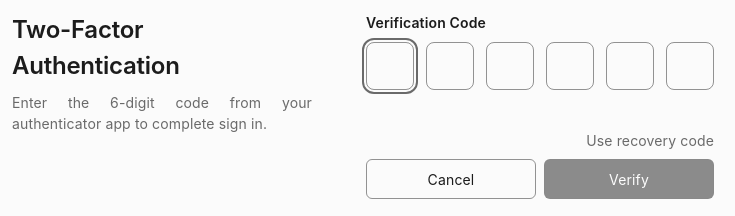
Scenario: MfaTotpStepV2 › switches back from recovery to TOTP via "Use authenticator app"
Click the button "Use recovery code" at (650, 140), box 586,130 -> 714,151
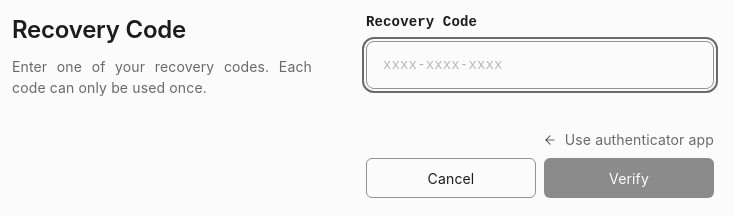
Click the button "Use authenticator app" at (628, 140), box 543,129 -> 714,150
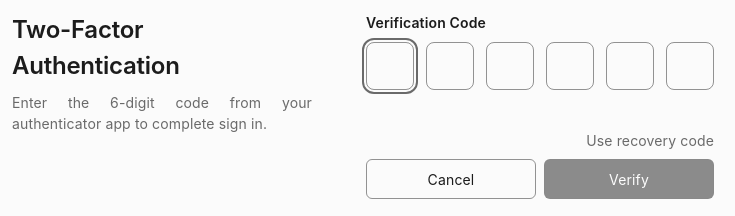
Result: the heading "Two-Factor Authentication" is shown at 12,15 -> 180,80
